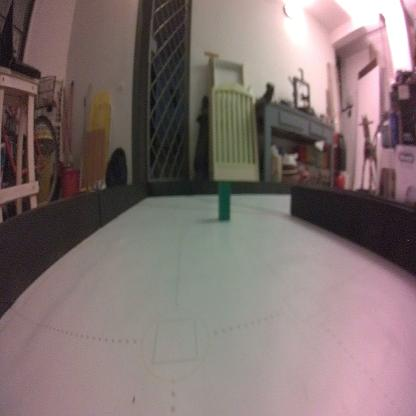green: (216, 177, 232, 222)
